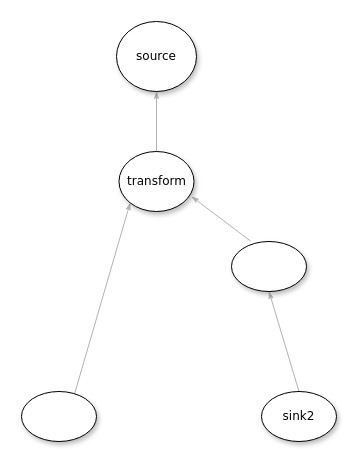
This 360x466 diagram has some shape labels left out. The shapes that lost their labels are listed below. From the top down, each one's centre as x and y in pixels, then its label:
At pixel 269 267: "analytics".
At pixel 59 417: "sink1".
